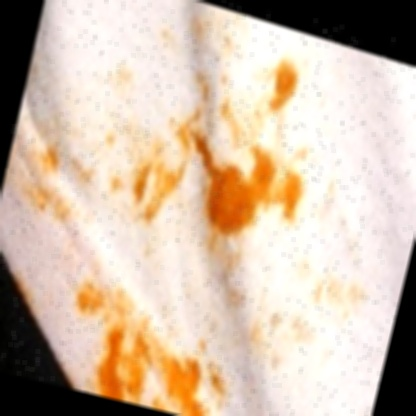kimchi: (16, 142, 128, 237), (174, 137, 279, 236), (191, 225, 263, 322), (116, 144, 184, 231), (79, 286, 172, 348), (168, 8, 248, 77), (95, 71, 149, 167), (207, 80, 269, 147), (155, 353, 213, 416), (260, 163, 315, 228), (265, 57, 315, 118), (91, 337, 137, 401), (307, 280, 363, 326), (245, 317, 295, 364), (128, 346, 160, 407), (191, 66, 220, 105)
